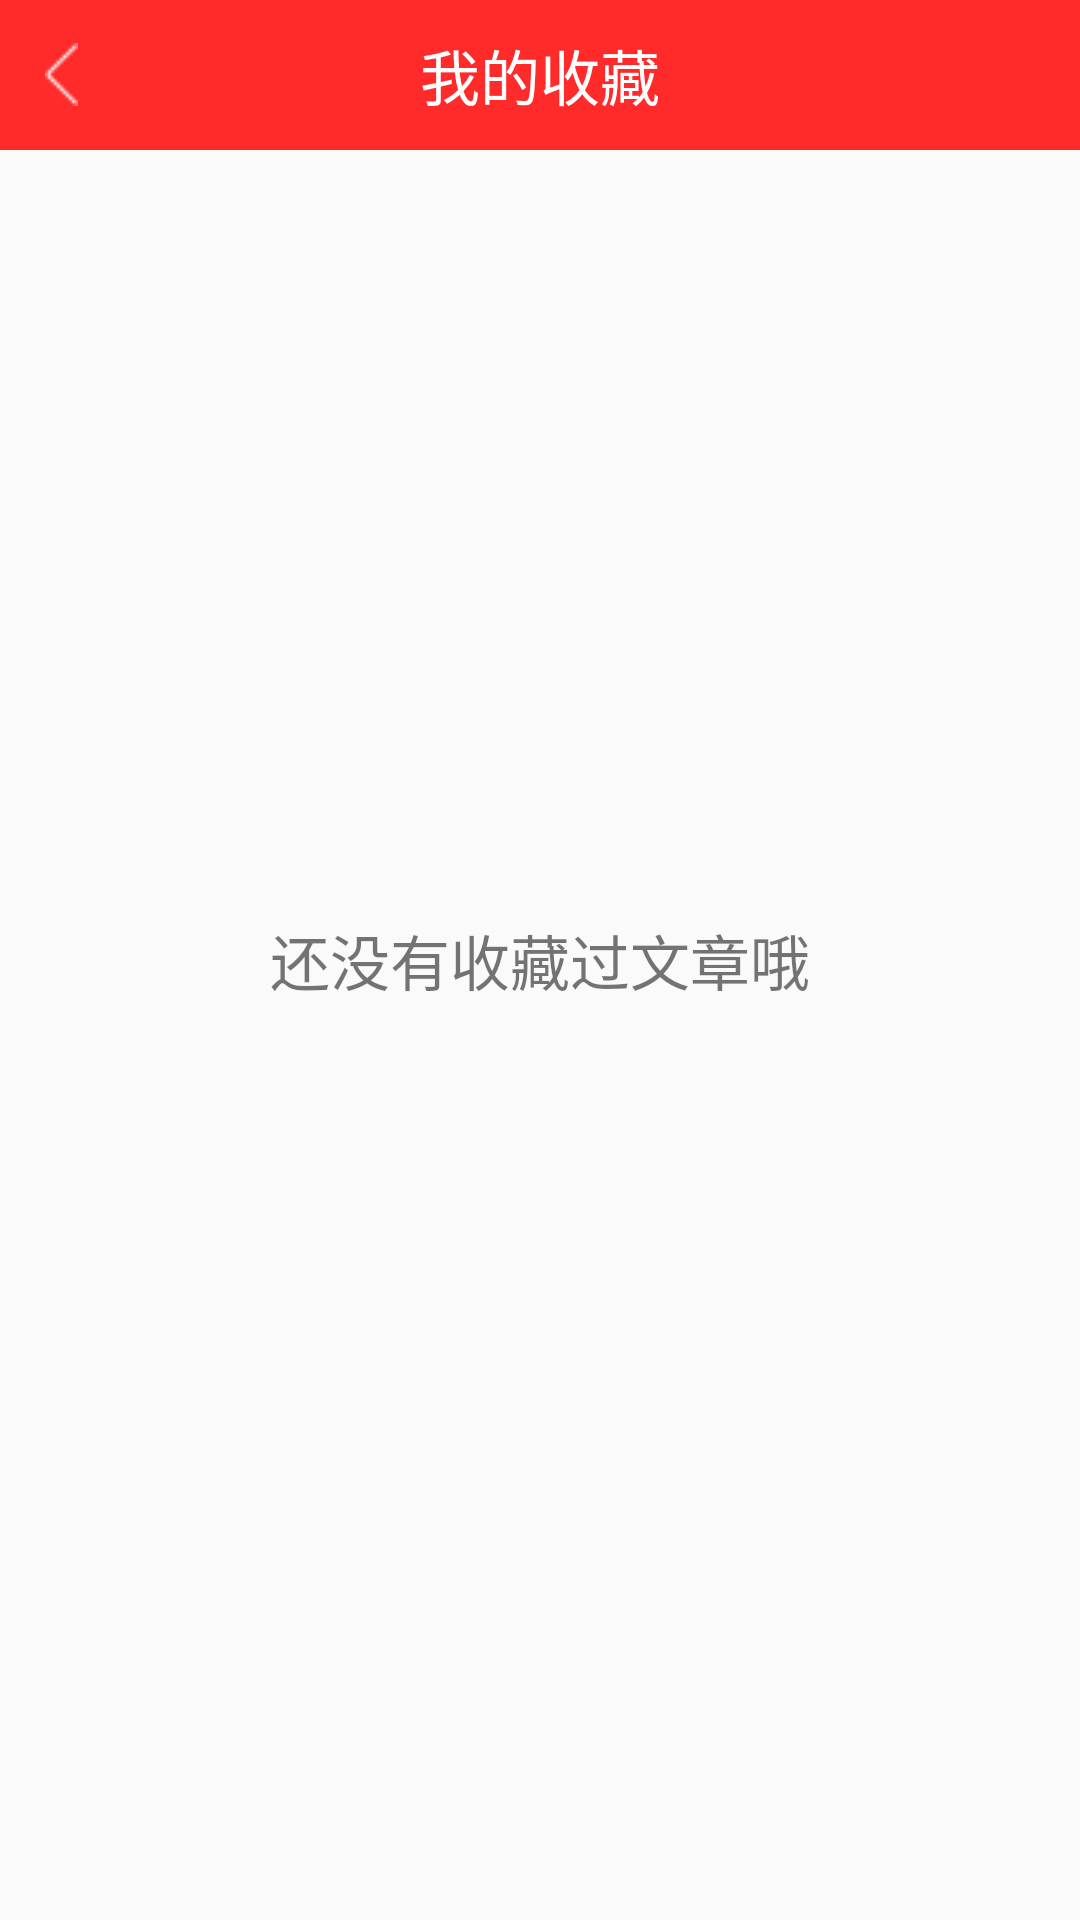

Where to tap for icons on this 1080px×1920px app screen, as [x,y]:
fanhui: [61,74]
